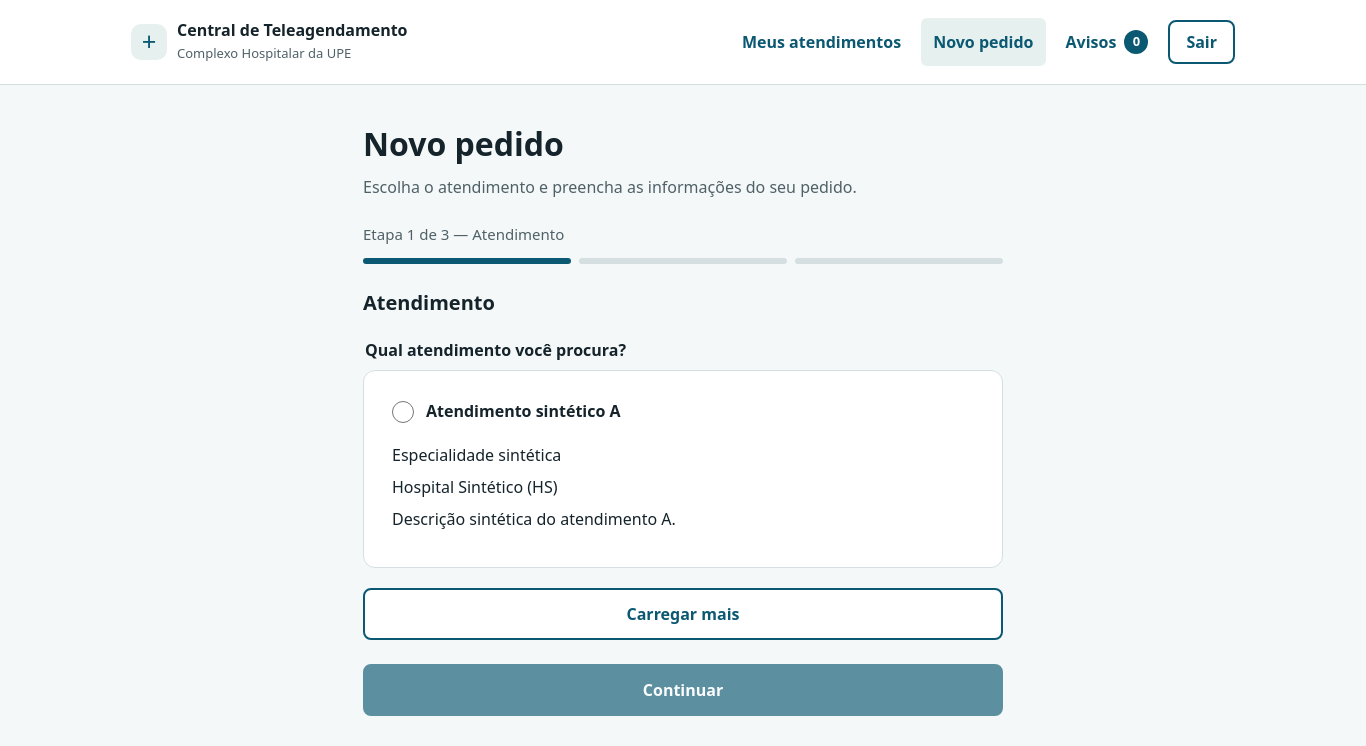
Test: UC-002 — atendimento e contrato › falha incremental repete apenas a página pendente
Click the radio button labelled "Atendimento sintético A" at (403, 412), box [392,401,414,423]
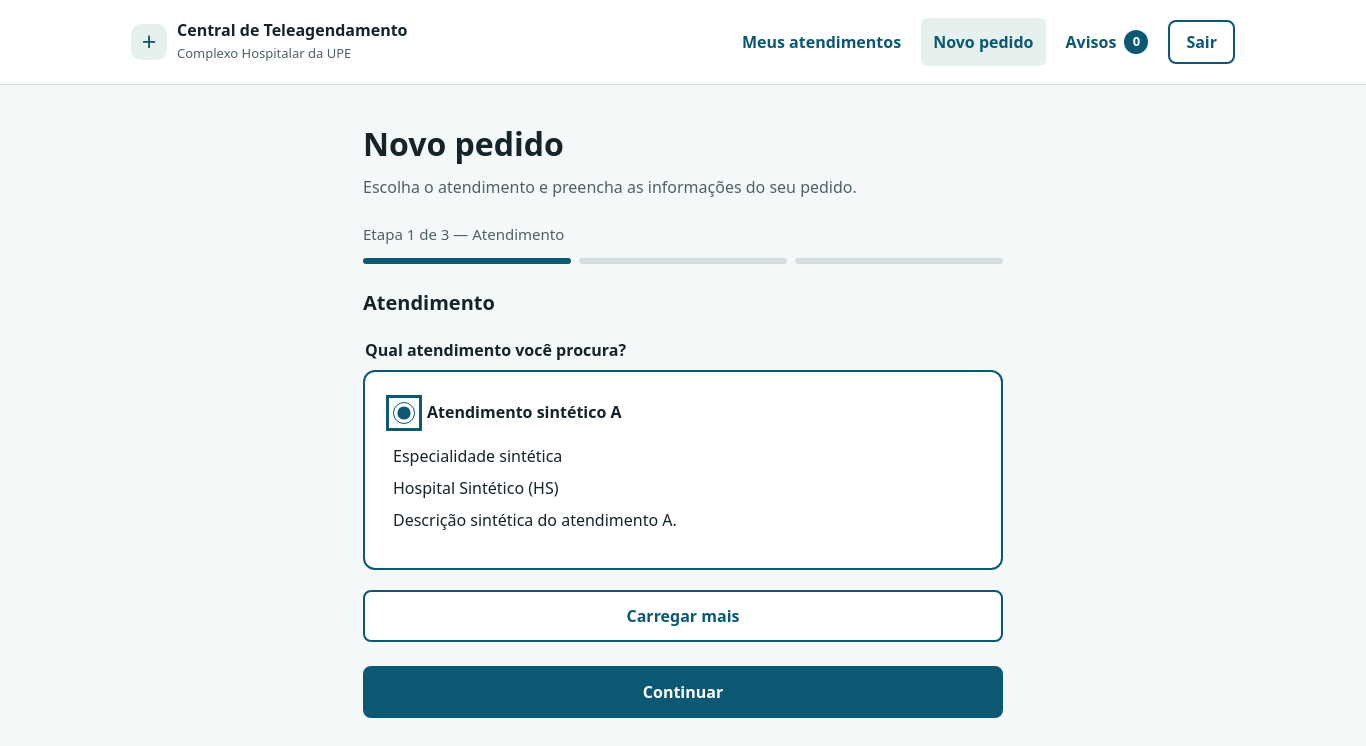
Result: the button "Continuar" is enabled at [363,666,1003,718]
Click the button "Carregar mais" at (683, 616), box [363,590,1003,642]
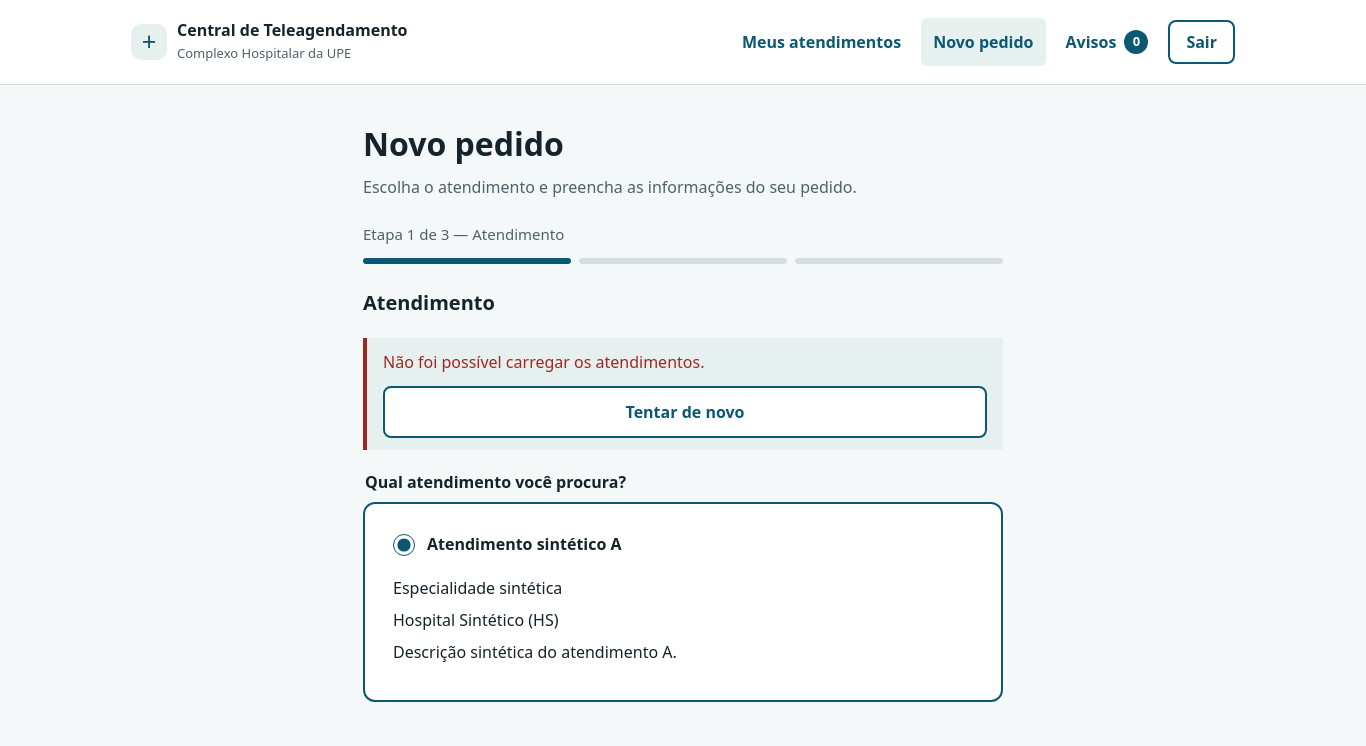
Result: the text "Não foi possível carregar os atendimentos." is shown at [383,351,704,373]
Click the button "Tentar de novo" at (685, 412), box [383,386,987,438]
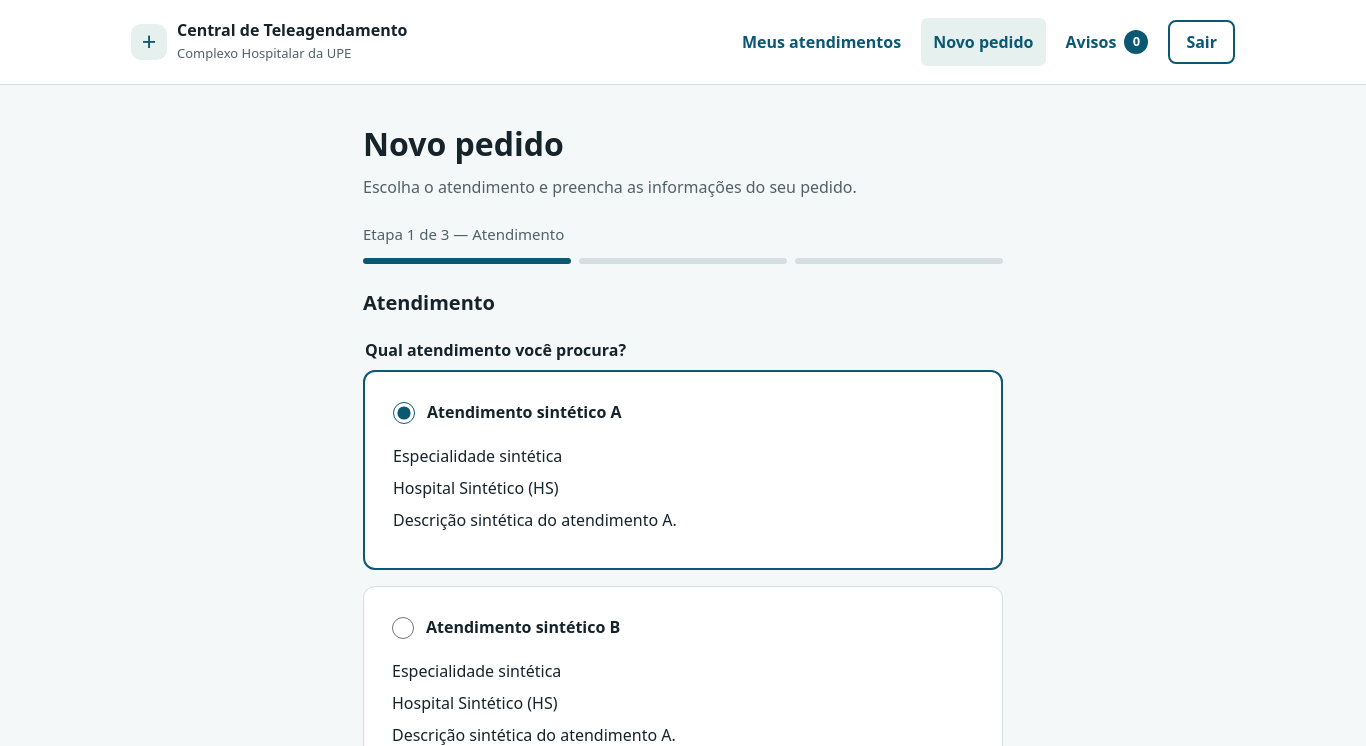
Result: the radio button labelled "Atendimento sintético A" is checked at [393,402,415,424]
Result: the radio button labelled "Atendimento sintético B" is shown at [392,617,414,639]
